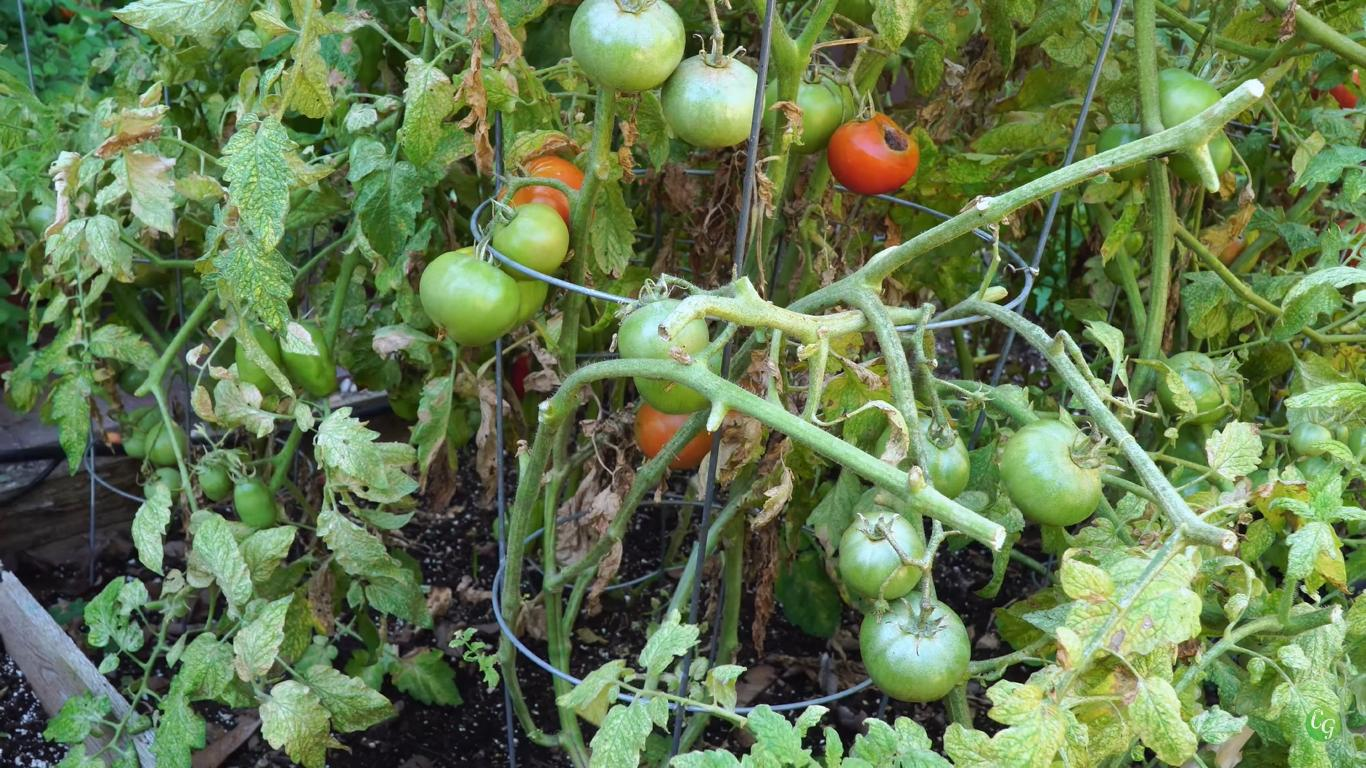Spider Mites: (1066, 558, 1204, 660), (217, 116, 299, 253), (348, 132, 426, 268), (219, 240, 295, 344), (186, 509, 256, 620), (984, 677, 1068, 768), (316, 510, 410, 588), (1127, 675, 1199, 768), (307, 662, 399, 734), (399, 55, 455, 173), (257, 680, 332, 768), (316, 406, 392, 490), (234, 591, 296, 683), (365, 566, 438, 632), (153, 681, 208, 768), (636, 608, 703, 678), (586, 700, 654, 768), (51, 372, 92, 479), (748, 702, 814, 768), (131, 481, 173, 579), (213, 377, 277, 441), (178, 631, 234, 699), (1282, 522, 1338, 590), (1204, 418, 1265, 480), (238, 524, 299, 582), (1059, 546, 1116, 606), (89, 322, 160, 370), (290, 51, 335, 120), (1284, 380, 1366, 412), (1190, 704, 1250, 746), (86, 211, 121, 281), (943, 721, 992, 768)
